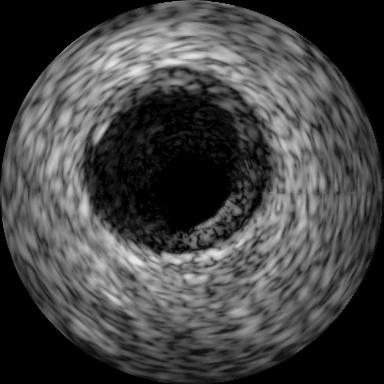Lumen: (151, 149, 231, 226)
